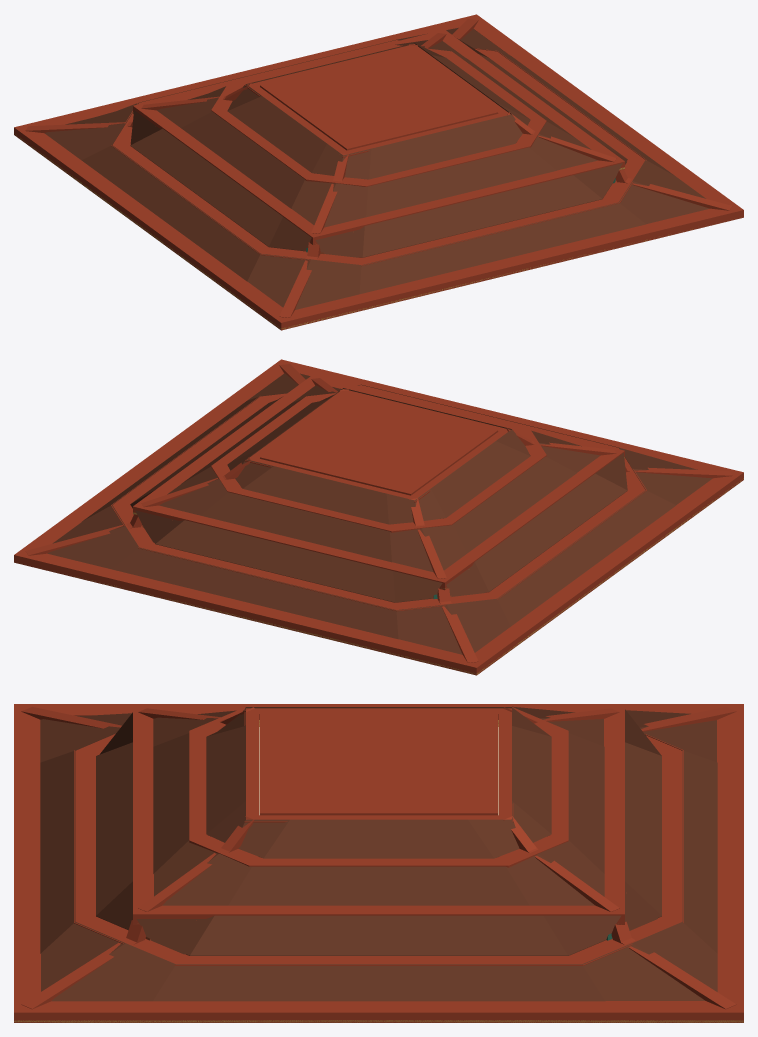
Rendered from three-hares-caisson.glb.
The picture shows the model from 3 angles, top to bottom: view 1: azimuth 30°, elevation 25°; view 2: azimuth 150°, elevation 25°; view 3: azimuth 270°, elevation 25°; orthographic projection. The views are drawn at different scales.
Parts seen in each view (by area): view 1: three-hares-caisson-slope-1, three-hares-caisson-frame-1, three-hares-caisson-slope-2, three-hares-caisson-slope-3, three-hares-caisson-center-backing, three-hares-caisson-slope-4, three-hares-caisson-frame-2, three-hares-caisson-frame-3, three-hares-caisson-frame-4, three-hares-caisson-frame-5, three-hares-caisson-frame-1-outer-trim, three-hares-caisson-corner-brace-1-3 (+3 smaller); view 2: three-hares-caisson-slope-1, three-hares-caisson-frame-1, three-hares-caisson-slope-2, three-hares-caisson-slope-3, three-hares-caisson-center-backing, three-hares-caisson-slope-4, three-hares-caisson-frame-2, three-hares-caisson-frame-3, three-hares-caisson-frame-4, three-hares-caisson-frame-5, three-hares-caisson-frame-1-outer-trim, three-hares-caisson-corner-brace-1-1 (+2 smaller); view 3: three-hares-caisson-slope-1, three-hares-caisson-frame-1, three-hares-caisson-slope-2, three-hares-caisson-slope-3, three-hares-caisson-center-backing, three-hares-caisson-slope-4, three-hares-caisson-frame-3, three-hares-caisson-frame-2, three-hares-caisson-frame-4, three-hares-caisson-frame-5, three-hares-caisson-frame-1-outer-trim, three-hares-caisson-corner-brace-1-0 (+7 smaller).
Boxes of the visible parts, x1,y1,x2,y2 form: three-hares-caisson-slope-1: (44, 27, 709, 309); three-hares-caisson-frame-1: (14, 14, 743, 330); three-hares-caisson-slope-2: (130, 38, 627, 257); three-hares-caisson-slope-3: (157, 40, 597, 227); three-hares-caisson-center-backing: (260, 48, 497, 150); three-hares-caisson-slope-4: (227, 43, 530, 179); three-hares-caisson-frame-2: (111, 39, 646, 266); three-hares-caisson-frame-3: (133, 29, 624, 245); three-hares-caisson-frame-4: (211, 44, 546, 186); three-hares-caisson-frame-5: (244, 44, 513, 157); three-hares-caisson-frame-1-outer-trim: (15, 134, 741, 329); three-hares-caisson-corner-brace-1-3: (623, 178, 732, 210); three-hares-caisson-slope-1: (47, 373, 712, 654); three-hares-caisson-frame-1: (14, 359, 743, 675); three-hares-caisson-slope-2: (130, 397, 627, 602); three-hares-caisson-slope-3: (159, 385, 600, 572); three-hares-caisson-center-backing: (260, 393, 497, 495); three-hares-caisson-slope-4: (227, 388, 530, 524); three-hares-caisson-frame-2: (111, 384, 646, 611); three-hares-caisson-frame-3: (133, 374, 624, 590); three-hares-caisson-frame-4: (211, 389, 546, 532); three-hares-caisson-frame-5: (244, 389, 513, 502); three-hares-caisson-frame-1-outer-trim: (20, 478, 743, 674); three-hares-caisson-corner-brace-1-1: (439, 601, 478, 662); three-hares-caisson-slope-1: (40, 710, 717, 1001); three-hares-caisson-frame-1: (14, 704, 743, 1022); three-hares-caisson-slope-2: (96, 709, 661, 955); three-hares-caisson-slope-3: (153, 706, 604, 905); three-hares-caisson-center-backing: (260, 712, 497, 815); three-hares-caisson-slope-4: (206, 707, 551, 858); three-hares-caisson-frame-3: (133, 706, 624, 924); three-hares-caisson-frame-2: (74, 733, 683, 965); three-hares-caisson-frame-4: (189, 705, 568, 867); three-hares-caisson-frame-5: (244, 708, 513, 822); three-hares-caisson-frame-1-outer-trim: (14, 1020, 743, 1022); three-hares-caisson-corner-brace-1-0: (619, 938, 736, 1009).
Size of the model in its own units: 15.2 by 2.43 by 15.2.
